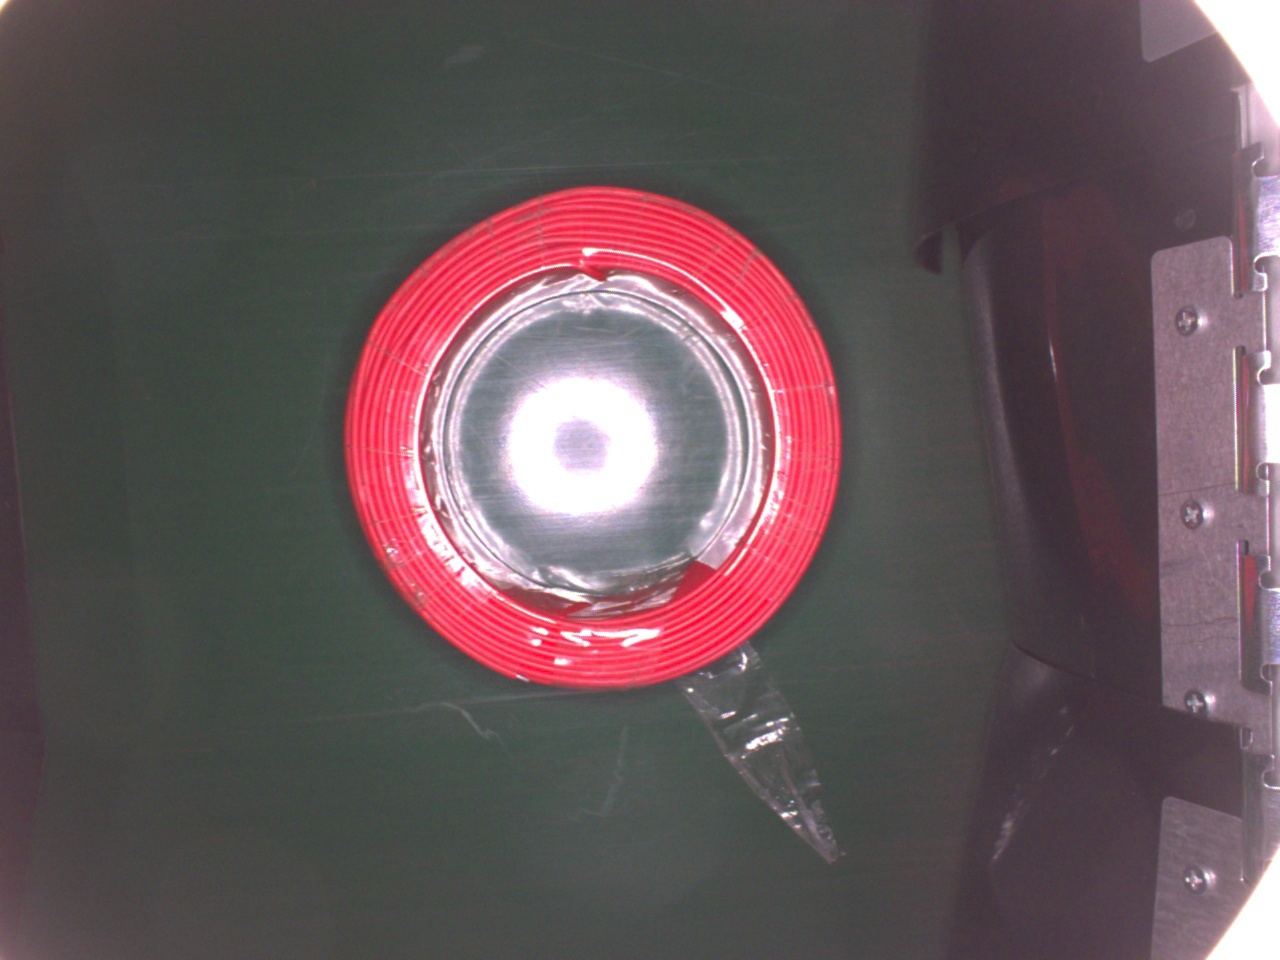red: (345, 179, 839, 696)
